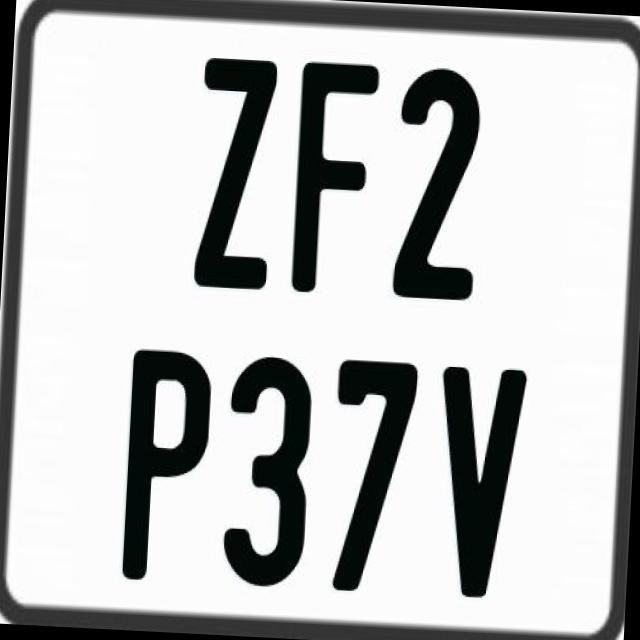2: (388, 62, 487, 306)
3: (220, 350, 316, 592)
7: (323, 354, 418, 596)
F: (291, 59, 388, 294)
P: (120, 346, 210, 580)
V: (430, 363, 530, 601)
Z: (192, 58, 279, 296)
